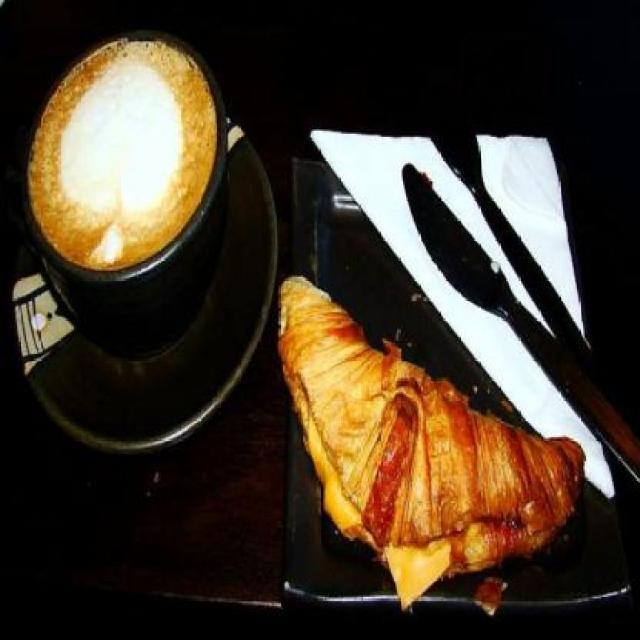Croissant: (277, 273, 586, 610)
